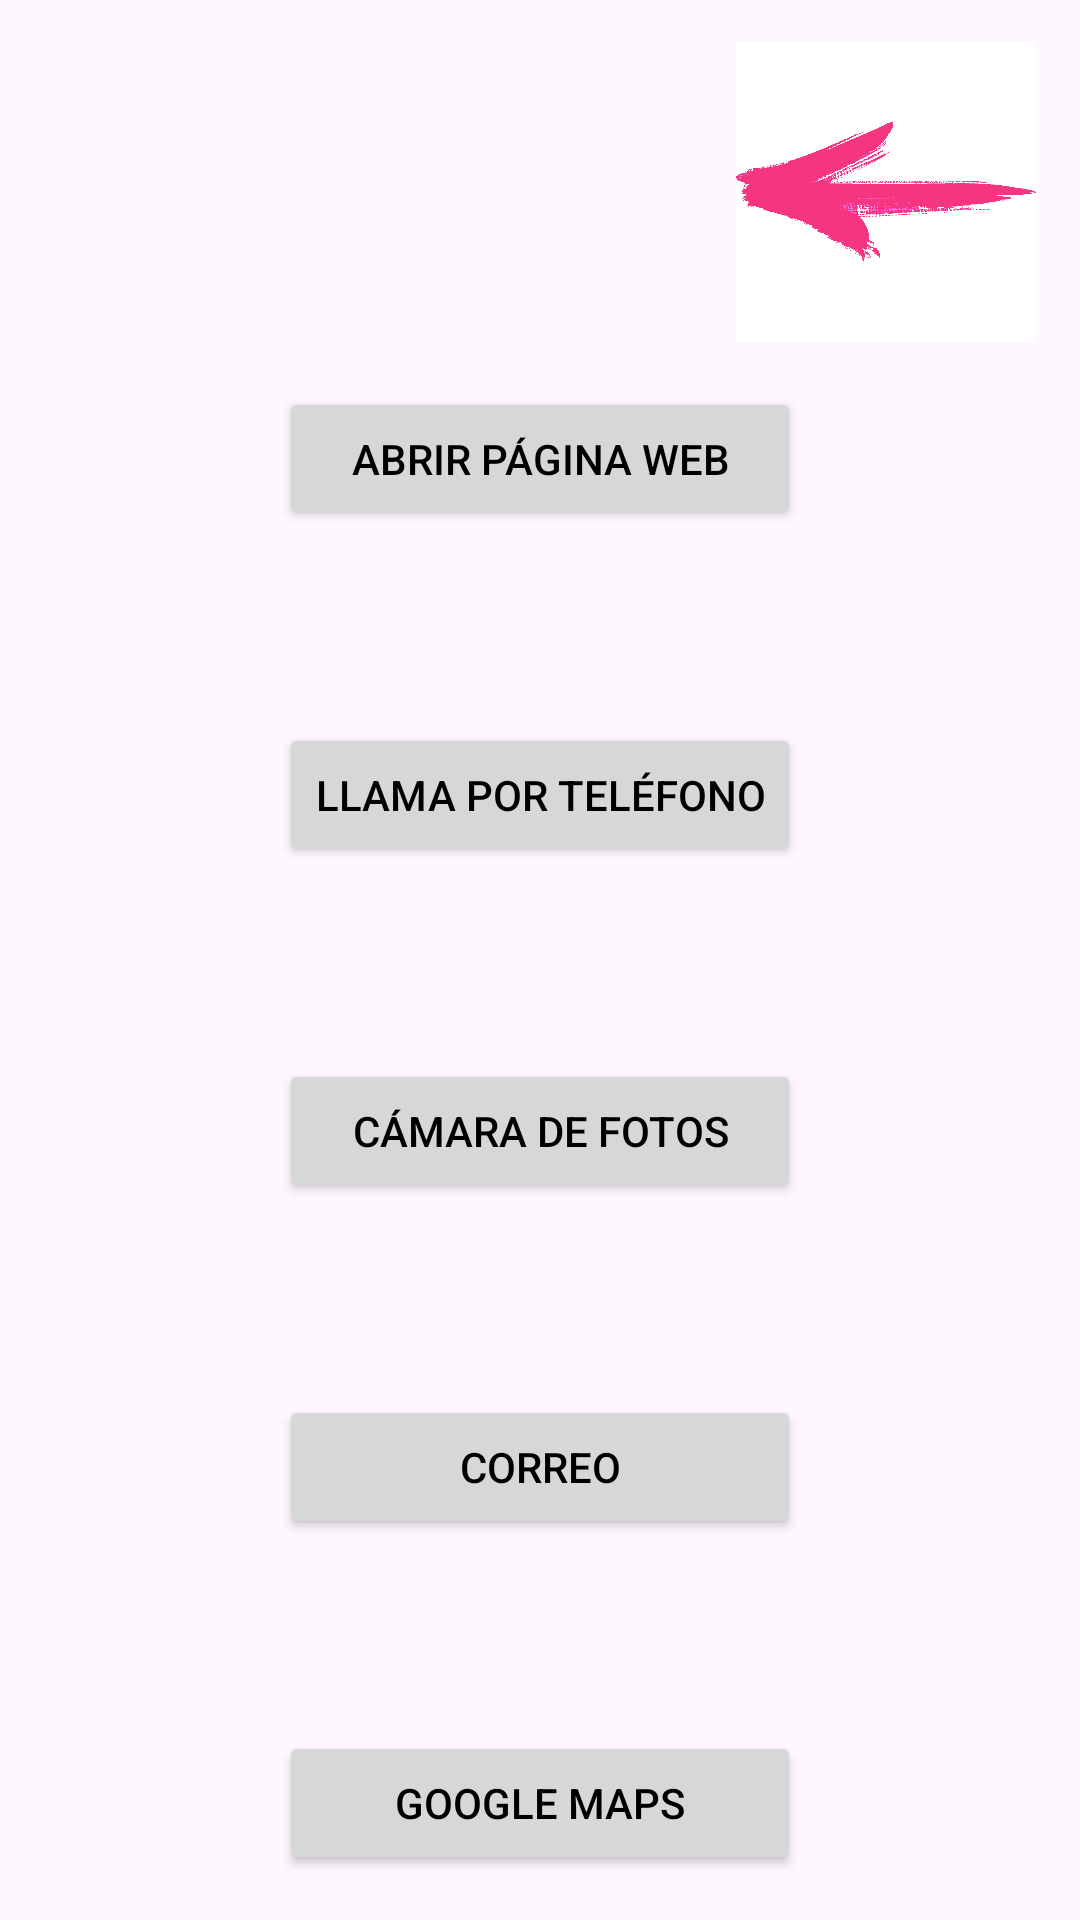

Icon bounding boxes for this 1080×1920 phone screenshot, format [x1, y1, x2, y2]:
botón de flecha atrás: [736, 122, 1036, 262]
